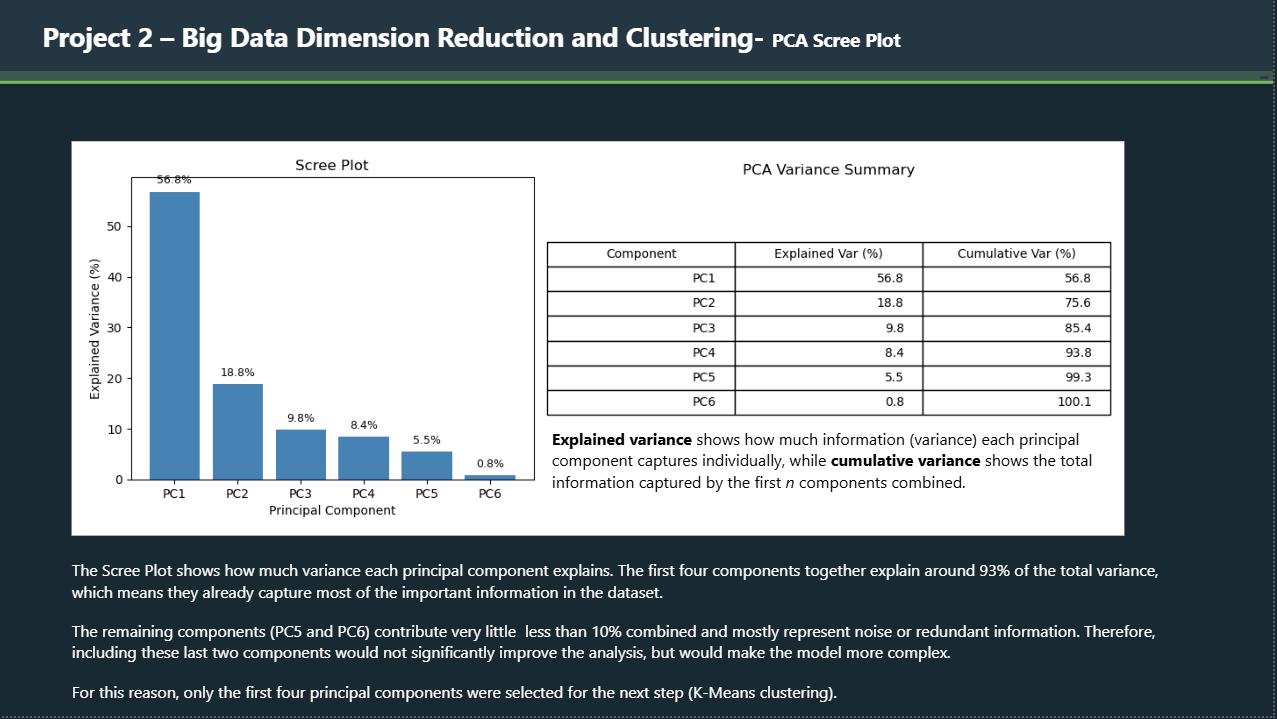

This screenshot's page, from the dashboard's own definition file:
{"tool":"powerbi","page":{"name":"PCA - Scree Plot","canvas":[1280,720],"ordinal":2},"visuals":[{"type":"textbox","box":[0,75.6,1280.2,12.8],"z":0},{"type":"textbox","box":[73.3,557,1103.5,162.8],"z":1000},{"type":"pythonVisual","fields":{"Values":["df_reduced.BALANCE","df_reduced.CREDIT_LIMIT","df_reduced.ONE_OFF_PURCHASES","df_reduced.PAYMENTS","df_reduced.PURCHASES","df_reduced.PURCHASES_TRX"]},"box":[73.3,116.3,1062.8,452.3],"z":3000,"group":"g1"},{"type":"group","id":"g1","title":"Group 1","box":[73.3,116.3,1062.8,452.3],"z":3000},{"type":"textbox","box":[553.5,426.7,566.3,102.3],"z":3500},{"type":"textbox","box":[0,0,1280.2,84.9],"z":4000}]}

Visuals, with their boxes in screenshot pixels (x1, y1, x2, y2), scaled from the page's 1280x720 canvas onto the 1277x719 screenshot:
textbox: (0,75,1276,88)
textbox: (73,556,1174,718)
pythonVisual - df_reduced.BALANCE x df_reduced.CREDIT_LIMIT: (73,116,1133,568)
"Group 1" group: (73,116,1133,568)
textbox: (552,426,1117,528)
textbox: (0,0,1276,85)
